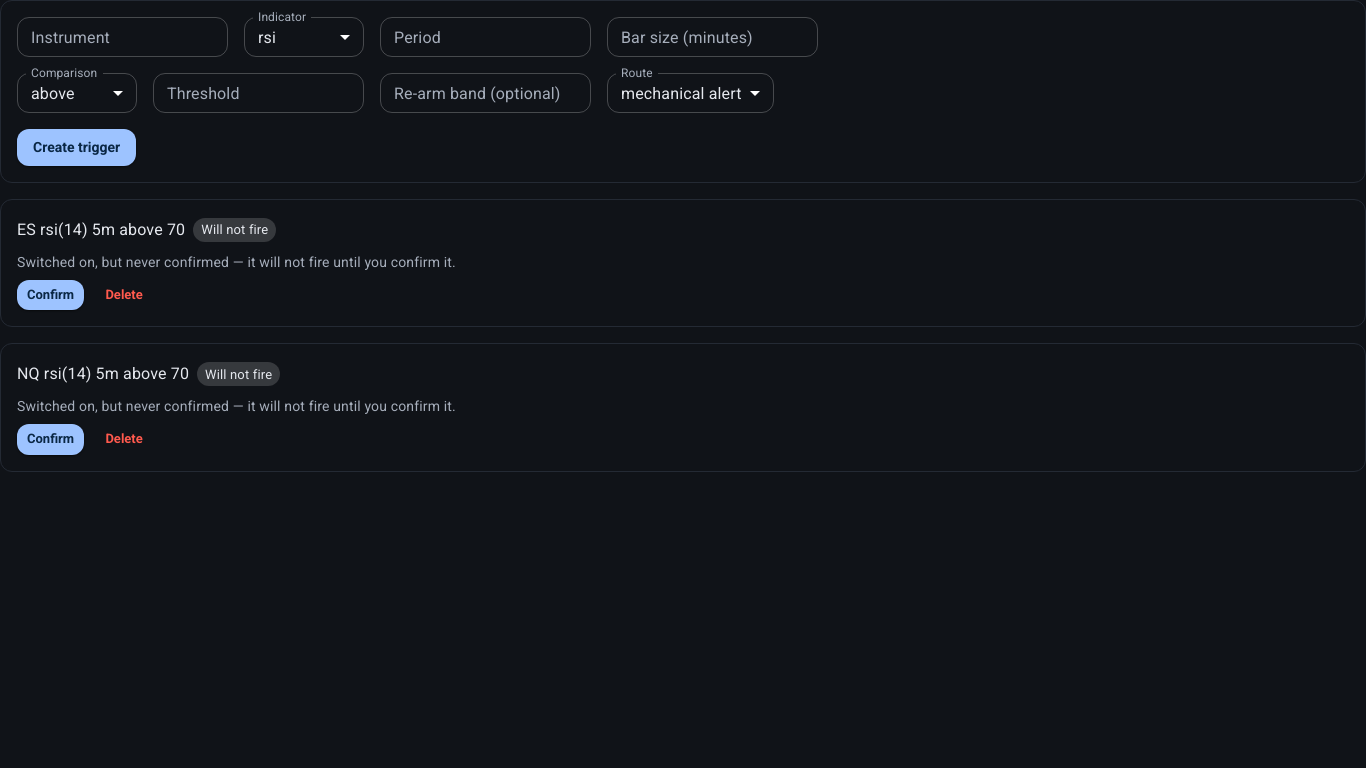
Test: TriggersSurface › delete — the invariants both row actions share › keeps each row’s error to its own row when TWO rows fail (gh#1002)
Click the button "Delete" below "ES rsi(14) 5m above 70". click: (124, 295)
box: [92,280,156,310]
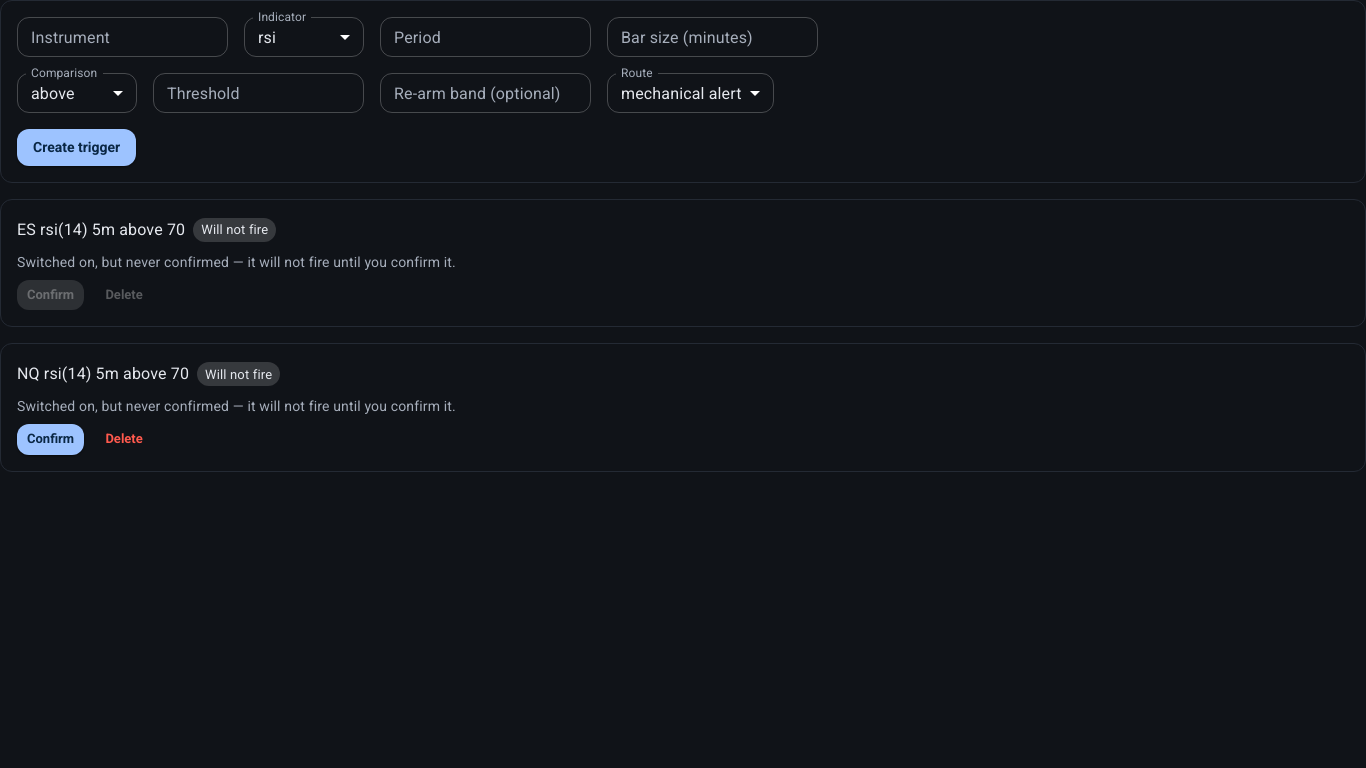
Click the button "Delete" below "NQ rsi(14) 5m above 70". click: (124, 440)
box: [92,424,156,455]
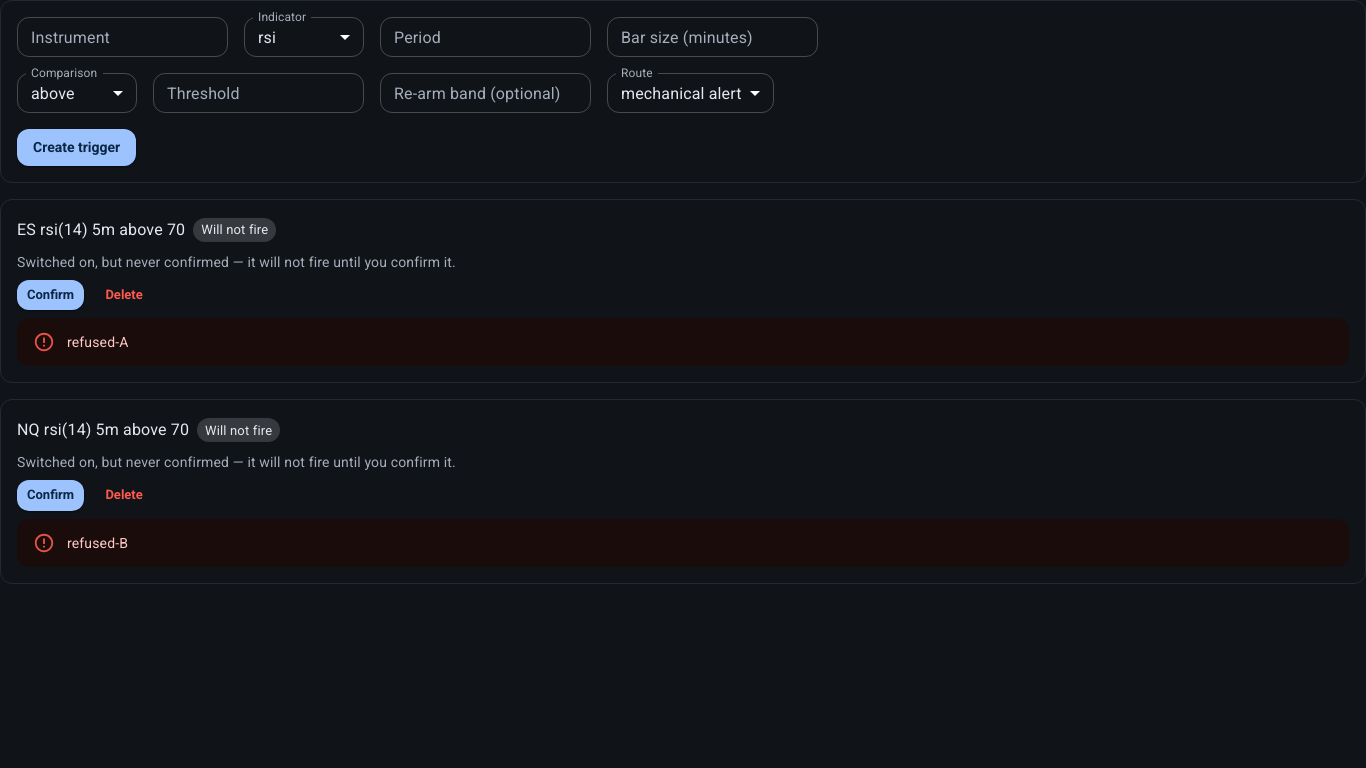
Expected: the text "refused-A" is shown, [67,334,128,350]
Expected: the text "refused-B" is shown, [67,535,128,551]
